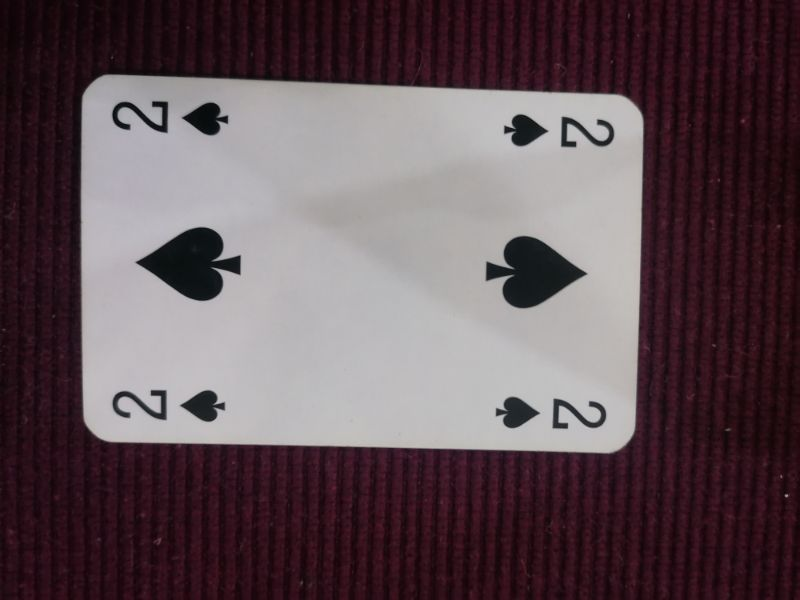2s: (498, 105, 620, 155), (108, 95, 234, 138), (493, 393, 611, 435), (109, 384, 231, 424)
